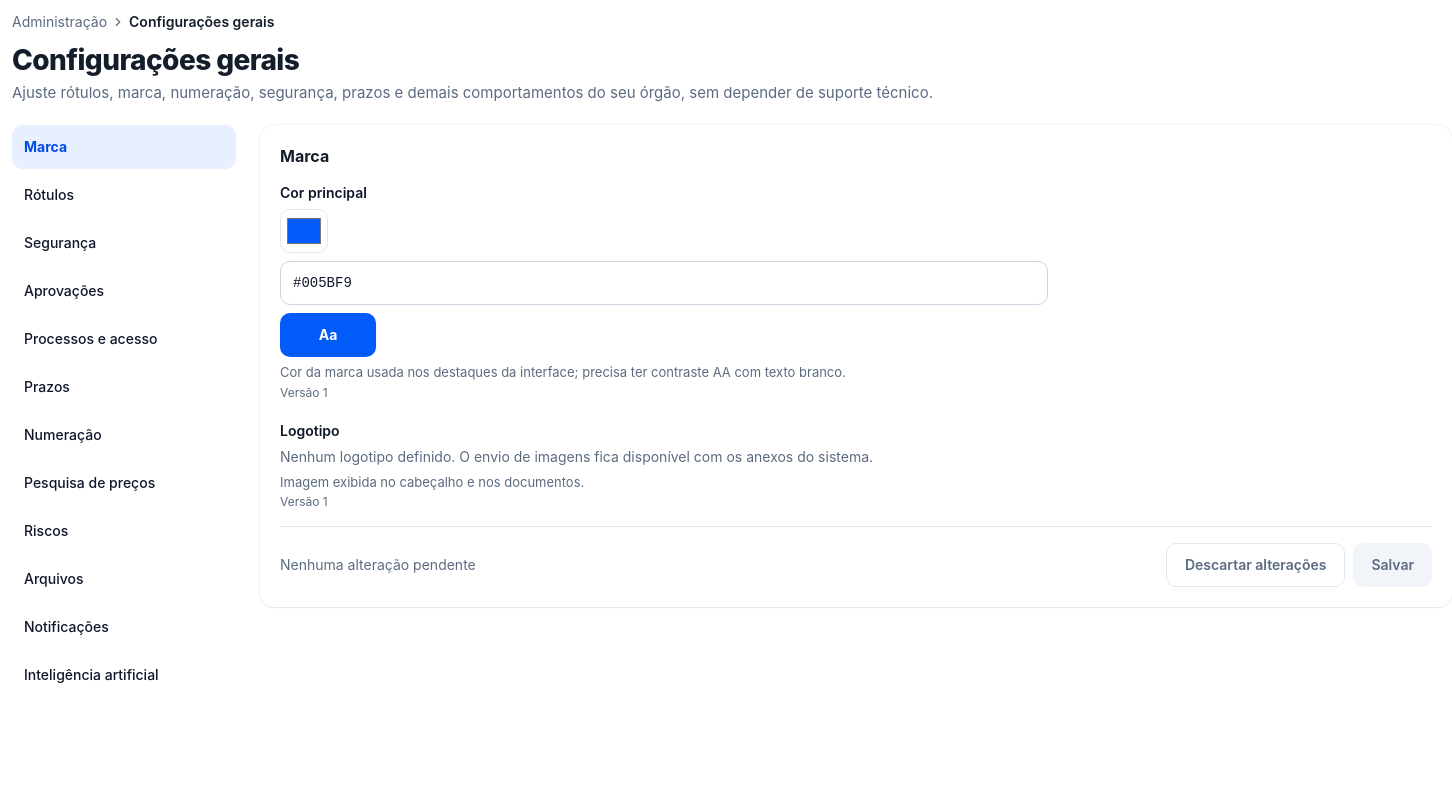
Test: SCR-041 · seção "Inteligência artificial" (US-116) › AiUsageCard: barra com percentual em texto, custo, divisões, mês e estados vazio/erro
This screenshot has width=1452, height=796.
What coordinates should you click on to do the following:
click the button "Inteligência artificial"
I would click on:
 (124, 675)
Its box is 12,653 -> 236,697.
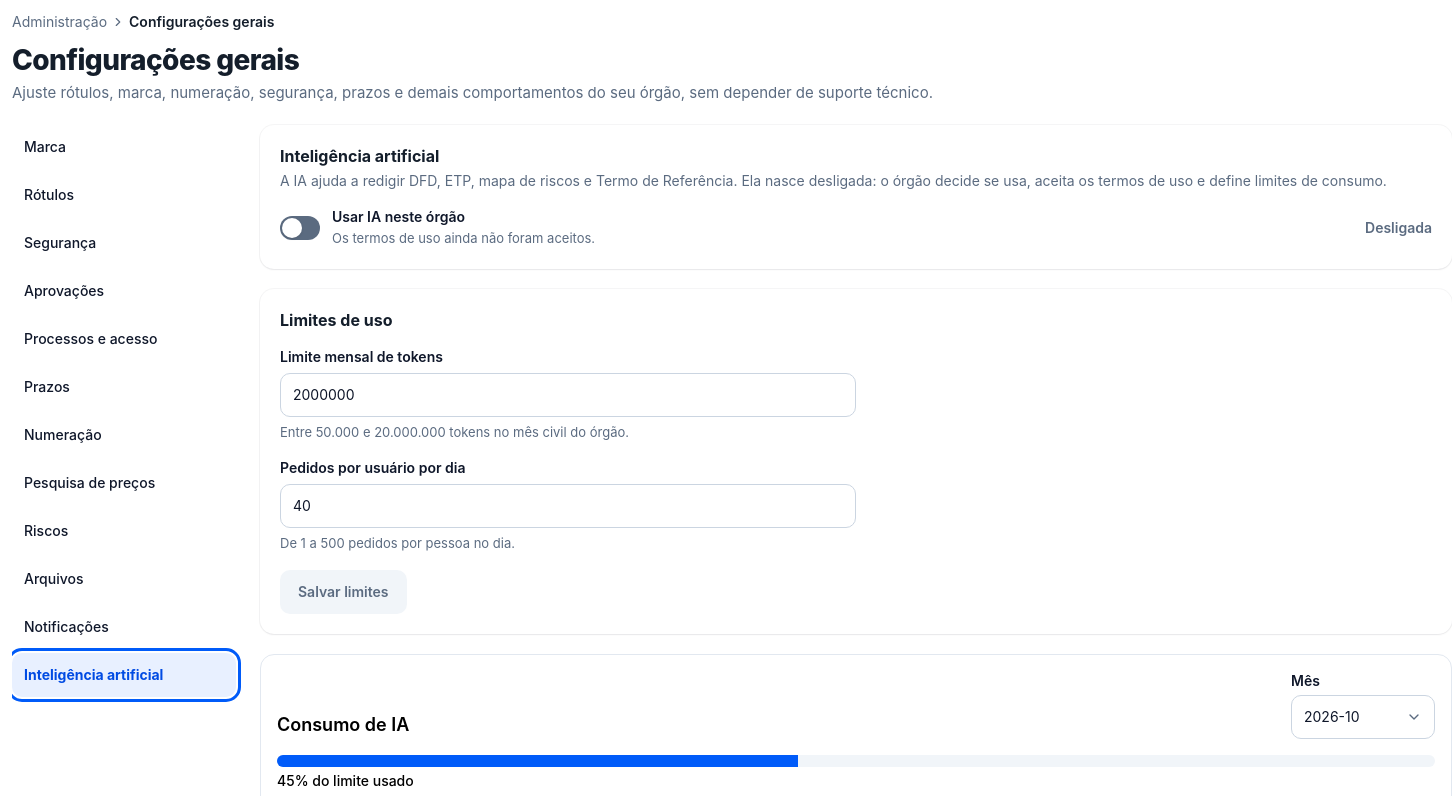
What coordinates should you click on to do the following:
click the dropdown named "Mês"
I would click on:
 (1363, 717)
Its box is 1291,695 -> 1435,739.
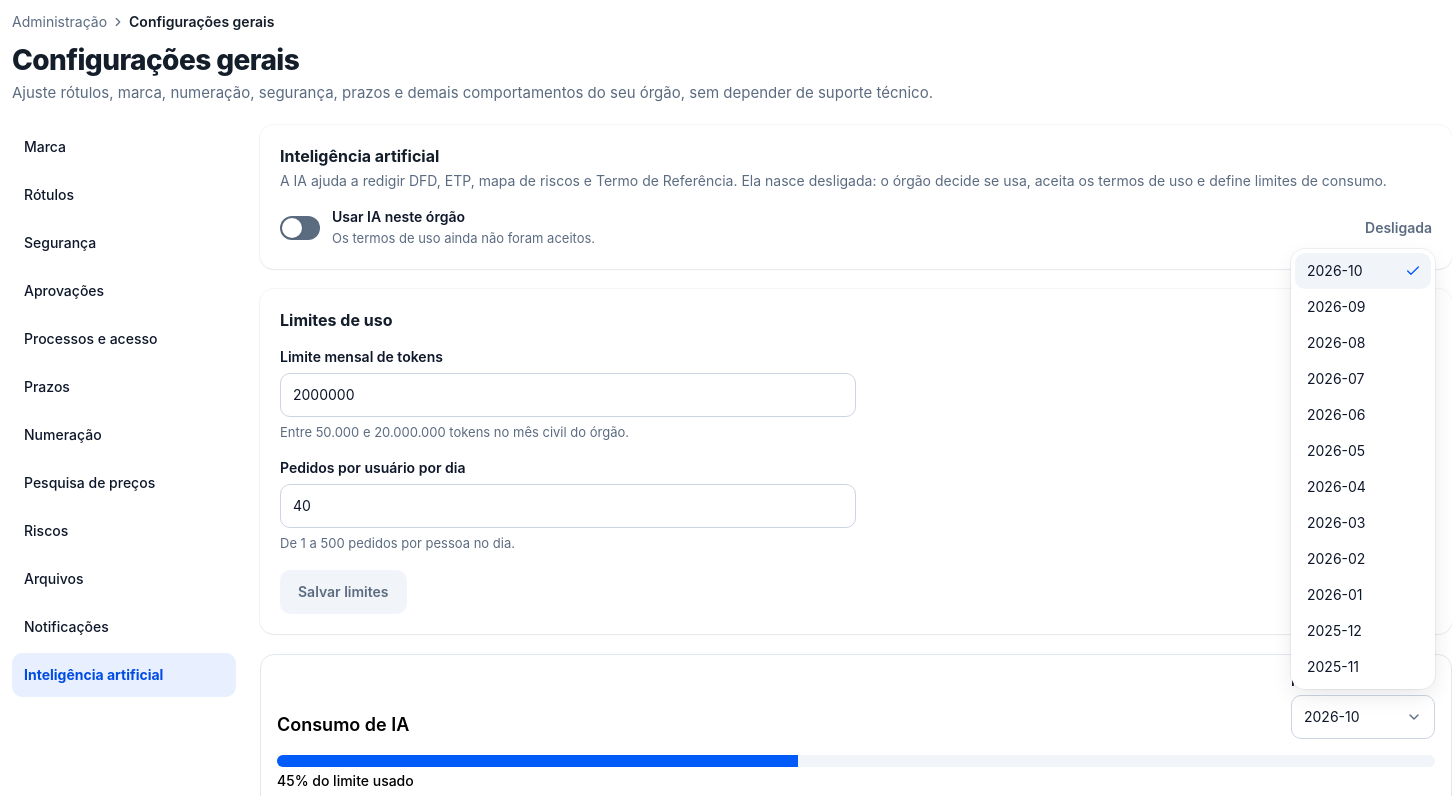
What coordinates should you click on to do the following:
click the option "2026-09"
I would click on:
 (1336, 306)
Its box is 1307,298 -> 1366,315.
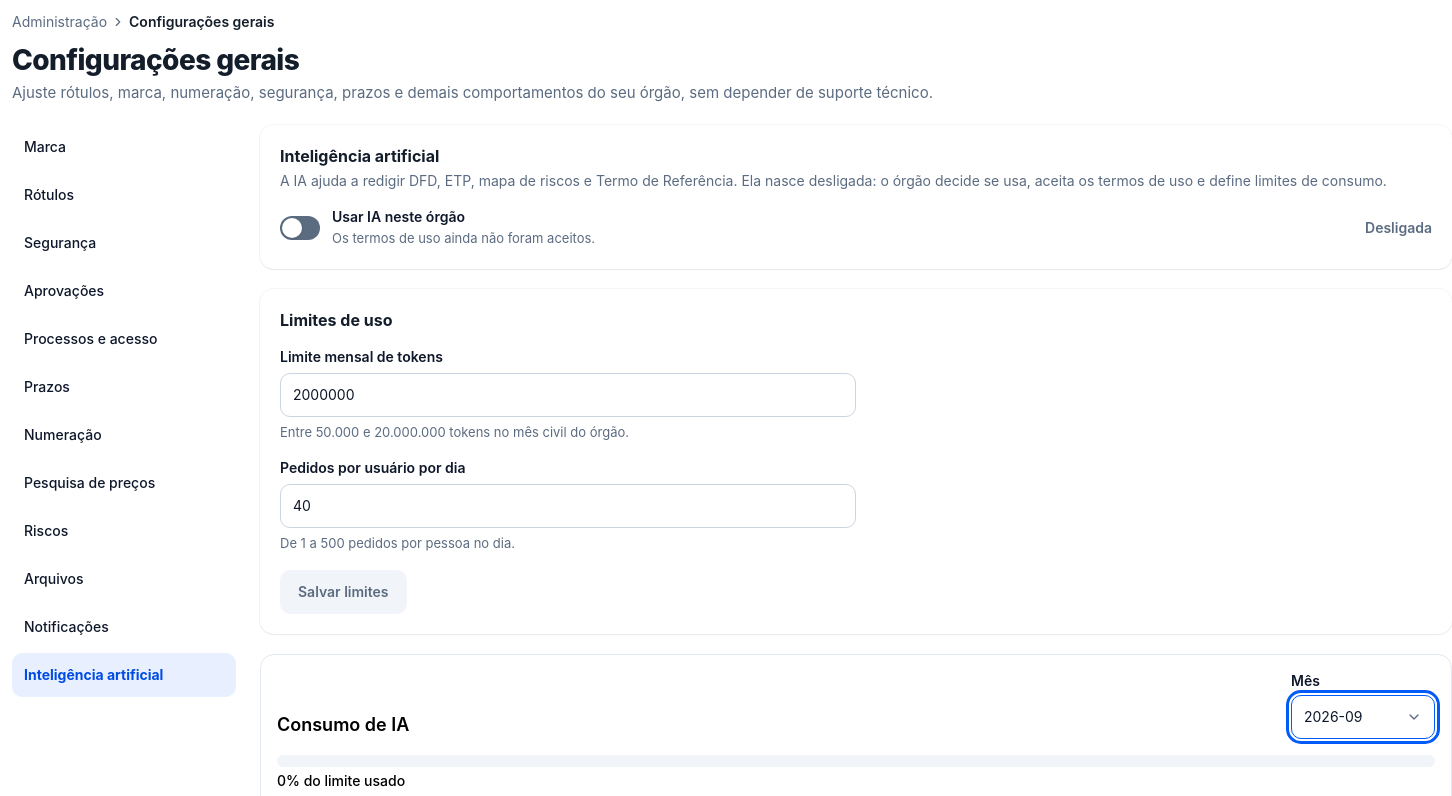
What coordinates should you click on to do the following:
click the dropdown named "Mês"
I would click on:
 (1363, 717)
Its box is 1291,695 -> 1435,739.
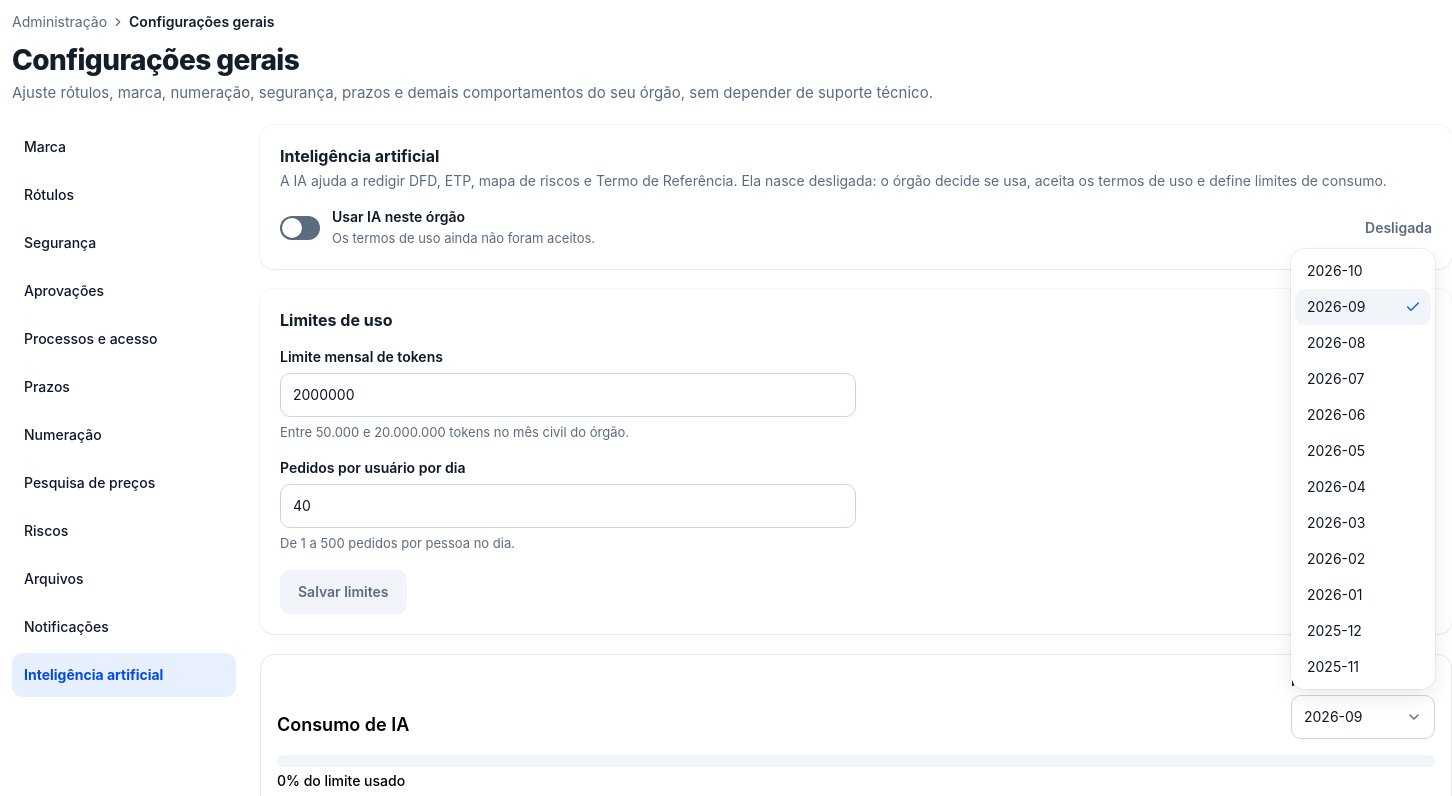
What coordinates should you click on to do the following:
click the option "2026-08"
I would click on:
 (1336, 342)
Its box is 1307,334 -> 1366,351.
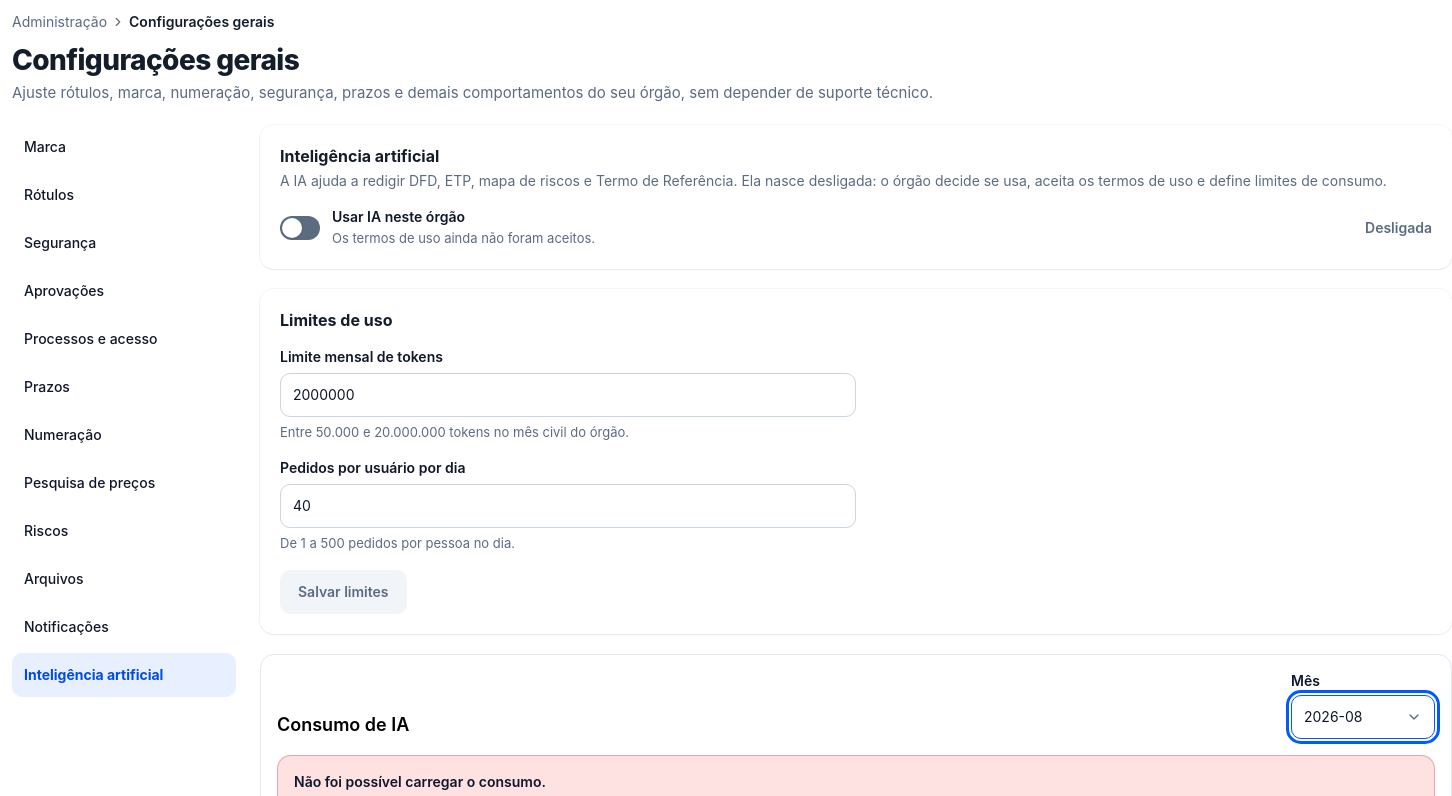
Expected: the text "Não foi possível carregar o consumo." is shown, 294,773 -> 546,790
